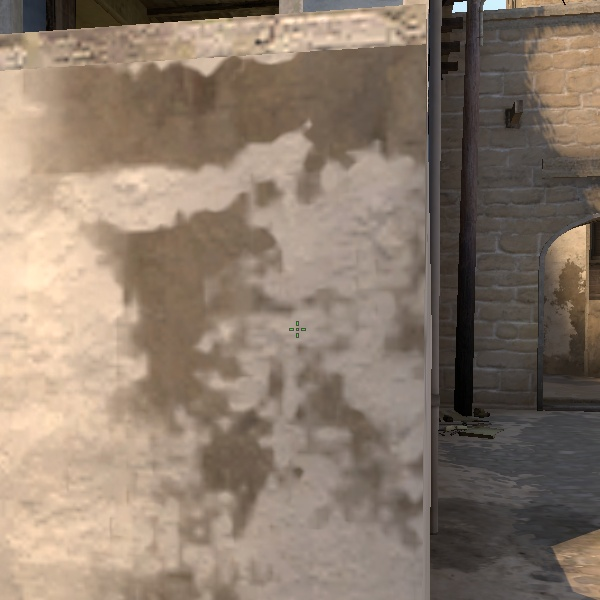t_head: (572, 171, 598, 237)
